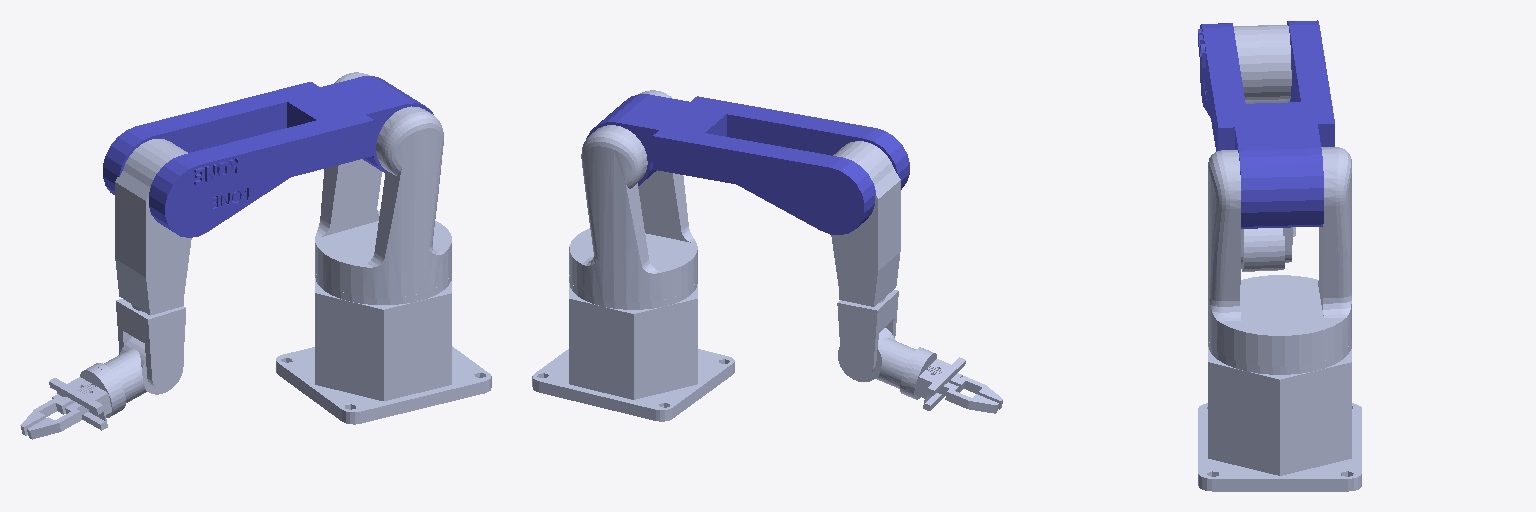
URDF robot description (robot_bras_ABB):
<?xml version="1.0" encoding="utf-8"?>
<!-- This URDF was automatically created by SolidWorks to URDF Exporter! Originally created by [author] ([email redacted]) 
     Commit Version: 1.6.0-4-g7f85cfe  Build Version: 1.6.7995.38578
     For more information, please see http://wiki.ros.org/sw_urdf_exporter -->
<robot
  name="robot_bras_ABB">
  <link
    name="base_link">
    <inertial>
      <origin
        xyz="1.1885E-05 -8.0658E-06 0.043886"
        rpy="0 0 0" />
      <mass
        value="0.9371" />
      <inertia
        ixx="0.0014923"
        ixy="4.3702E-07"
        ixz="-5.8663E-08"
        iyy="0.0015259"
        iyz="3.154E-08"
        izz="0.0015689" />
    </inertial>
    <visual>
      <origin
        xyz="0 0 0"
        rpy="0 0 0" />
      <geometry>
        <mesh
          filename="package://robot_bras_ABB/meshes/base_link.STL" />
      </geometry>
      <material
        name="">
        <color
          rgba="0.79216 0.81961 0.93333 1" />
      </material>
    </visual>
    <collision>
      <origin
        xyz="0 0 0"
        rpy="0 0 0" />
      <geometry>
        <mesh
          filename="package://robot_bras_ABB/meshes/base_link.STL" />
      </geometry>
    </collision>
  </link>
  <link
    name="link_1">
    <inertial>
      <origin
        xyz="0.0006855 2.4873E-07 -0.049543"
        rpy="0 0 0" />
      <mass
        value="0.43366" />
      <inertia
        ixx="0.0013649"
        ixy="-4.8459E-09"
        ixz="-5.0338E-06"
        iyy="0.0010402"
        iyz="3.0695E-09"
        izz="0.00069101" />
    </inertial>
    <visual>
      <origin
        xyz="0 0 0"
        rpy="0 0 0" />
      <geometry>
        <mesh
          filename="package://robot_bras_ABB/meshes/link_1.STL" />
      </geometry>
      <material
        name="">
        <color
          rgba="0.79216 0.81961 0.93333 1" />
      </material>
    </visual>
    <collision>
      <origin
        xyz="0 0 0"
        rpy="0 0 0" />
      <geometry>
        <mesh
          filename="package://robot_bras_ABB/meshes/link_1.STL" />
      </geometry>
    </collision>
  </link>
  <joint
    name="joint0"
    type="revolute">
    <origin
      xyz="1.344E-05 0 0.09335"
      rpy="3.1416 0 -3.0703" />
    <parent
      link="base_link" />
    <child
      link="link_1" />
    <axis
      xyz="0 0 1" />
    <limit
      lower="0"
      upper="3.14"
      effort="300"
      velocity="5" />
  </joint>
  <link
    name="link_2">
    <inertial>
      <origin
        xyz="-0.0065011 0.09115 -6.0107E-06"
        rpy="0 0 0" />
      <mass
        value="0.5836" />
      <inertia
        ixx="0.0040315"
        ixy="-1.8069E-05"
        ixz="-6.5492E-07"
        iyy="0.00054365"
        iyz="-1.9169E-06"
        izz="0.0037443" />
    </inertial>
    <visual>
      <origin
        xyz="0 0 0"
        rpy="0 0 0" />
      <geometry>
        <mesh
          filename="package://robot_bras_ABB/meshes/link_2.STL" />
      </geometry>
      <material
        name="">
        <color
          rgba="0.38824 0.4 0.85882 0.6" />
      </material>
    </visual>
    <collision>
      <origin
        xyz="0 0 0"
        rpy="0 0 0" />
      <geometry>
        <mesh
          filename="package://robot_bras_ABB/meshes/link_2.STL" />
      </geometry>
    </collision>
  </link>
  <joint
    name="joint1"
    type="revolute">
    <origin
      xyz="0 0 -0.12025"
      rpy="-1.5708 -1.5438 0" />
    <parent
      link="link_1" />
    <child
      link="link_2" />
    <axis
      xyz="0 0 1" />
    <limit
      lower="-1.57"
      upper="1.57"
      effort="200"
      velocity="5" />
  </joint>
  <link
    name="link_3">
    <inertial>
      <origin
        xyz="0.031505 -0.0076076 -0.0013362"
        rpy="0 0 0" />
      <mass
        value="0.22742" />
      <inertia
        ixx="7.961E-05"
        ixy="3.8063E-05"
        ixz="4.456E-08"
        iyy="0.00030017"
        iyz="-3.9345E-09"
        izz="0.00031316" />
    </inertial>
    <visual>
      <origin
        xyz="0 0 0"
        rpy="0 0 0" />
      <geometry>
        <mesh
          filename="package://robot_bras_ABB/meshes/link_3.STL" />
      </geometry>
      <material
        name="">
        <color
          rgba="0.79216 0.81961 0.93333 1" />
      </material>
    </visual>
    <collision>
      <origin
        xyz="0 0 0"
        rpy="0 0 0" />
      <geometry>
        <mesh
          filename="package://robot_bras_ABB/meshes/link_3.STL" />
      </geometry>
    </collision>
  </link>
  <joint
    name="joint2"
    type="revolute">
    <origin
      xyz="0 0.2 0"
      rpy="3.1416 0 -0.031835" />
    <parent
      link="link_2" />
    <child
      link="link_3" />
    <axis
      xyz="0 0 1" />
    <limit
      lower="-1.57"
      upper="1.57"
      effort="200"
      velocity="5" />
  </joint>
  <link
    name="link_4">
    <inertial>
      <origin
        xyz="0.021493 0.00011529 0.00025275"
        rpy="0 0 0" />
      <mass
        value="0.050665" />
      <inertia
        ixx="1.4625E-05"
        ixy="-2.0111E-08"
        ixz="-9.6228E-09"
        iyy="2.3638E-05"
        iyz="8.8309E-11"
        izz="1.813E-05" />
    </inertial>
    <visual>
      <origin
        xyz="0 0 0"
        rpy="0 0 0" />
      <geometry>
        <mesh
          filename="package://robot_bras_ABB/meshes/link_4.STL" />
      </geometry>
      <material
        name="">
        <color
          rgba="0.79216 0.81961 0.93333 1" />
      </material>
    </visual>
    <collision>
      <origin
        xyz="0 0 0"
        rpy="0 0 0" />
      <geometry>
        <mesh
          filename="package://robot_bras_ABB/meshes/link_4.STL" />
      </geometry>
    </collision>
  </link>
  <joint
    name="joint3"
    type="revolute">
    <origin
      xyz="0.09947 -0.013523 -0.0018283"
      rpy="-0.029214 0 0" />
    <parent
      link="link_3" />
    <child
      link="link_4" />
    <axis
      xyz="1 0 0" />
    <limit
      lower="-1.57"
      upper="1.57"
      effort="200"
      velocity="5" />
  </joint>
  <link
    name="link_5">
    <inertial>
      <origin
        xyz="0.014078 -2.8252E-07 -0.00016271"
        rpy="0 0 0" />
      <mass
        value="0.066258" />
      <inertia
        ixx="1.1462E-05"
        ixy="-1.3613E-10"
        ixz="-1.0344E-07"
        iyy="2.8103E-05"
        iyz="1.2893E-10"
        izz="2.9288E-05" />
    </inertial>
    <visual>
      <origin
        xyz="0 0 0"
        rpy="0 0 0" />
      <geometry>
        <mesh
          filename="package://robot_bras_ABB/meshes/link_5.STL" />
      </geometry>
      <material
        name="">
        <color
          rgba="0.79216 0.81961 0.93333 1" />
      </material>
    </visual>
    <collision>
      <origin
        xyz="0 0 0"
        rpy="0 0 0" />
      <geometry>
        <mesh
          filename="package://robot_bras_ABB/meshes/link_5.STL" />
      </geometry>
    </collision>
  </link>
  <joint
    name="joint4"
    type="revolute">
    <origin
      xyz="0.050588 0 0"
      rpy="0 0 -1.3526" />
    <parent
      link="link_4" />
    <child
      link="link_5" />
    <axis
      xyz="0 0 1" />
    <limit
      lower="-1.57"
      upper="1.57"
      effort="200"
      velocity="5" />
  </joint>
  <link
    name="link_6">
    <inertial>
      <origin
        xyz="2.8623E-17 3.2535E-05 0.027023"
        rpy="0 0 0" />
      <mass
        value="0.023325" />
      <inertia
        ixx="3.1248E-06"
        ixy="1.5022E-21"
        ixz="-1.0505E-22"
        iyy="5.3622E-06"
        iyz="-1.9003E-09"
        izz="5.1614E-06" />
    </inertial>
    <visual>
      <origin
        xyz="0 0 0"
        rpy="0 0 0" />
      <geometry>
        <mesh
          filename="package://robot_bras_ABB/meshes/link_6.STL" />
      </geometry>
      <material
        name="">
        <color
          rgba="0.79216 0.81961 0.93333 1" />
      </material>
    </visual>
    <collision>
      <origin
        xyz="0 0 0"
        rpy="0 0 0" />
      <geometry>
        <mesh
          filename="package://robot_bras_ABB/meshes/link_6.STL" />
      </geometry>
    </collision>
  </link>
  <joint
    name="joint5"
    type="revolute">
    <origin
      xyz="0.030728 0 6.7238E-05"
      rpy="1.5708 1.5592 1.5708" />
    <parent
      link="link_5" />
    <child
      link="link_6" />
    <axis
      xyz="0 0 1" />
    <limit
      lower="0"
      upper="3.14"
      effort="200"
      velocity="5" />
  </joint>
  <link
    name="link_7">
    <inertial>
      <origin
        xyz="-0.12406 -0.0062179 0.004"
        rpy="0 0 0" />
      <mass
        value="0.0035066" />
      <inertia
        ixx="7.4038E-08"
        ixy="-2.1237E-08"
        ixz="4.0201E-22"
        iyy="7.9048E-07"
        iyz="7.4446E-24"
        izz="8.2711E-07" />
    </inertial>
    <visual>
      <origin
        xyz="0 0 0"
        rpy="0 0 0" />
      <geometry>
        <mesh
          filename="package://robot_bras_ABB/meshes/link_7.STL" />
      </geometry>
      <material
        name="">
        <color
          rgba="0.79216 0.81961 0.93333 1" />
      </material>
    </visual>
    <collision>
      <origin
        xyz="0 0 0"
        rpy="0 0 0" />
      <geometry>
        <mesh
          filename="package://robot_bras_ABB/meshes/link_7.STL" />
      </geometry>
    </collision>
  </link>
  <joint
    name="joint6"
    type="prismatic">
    <origin
      xyz="0.0022413 0.0035238 0.1867"
      rpy="-3.1345 -1.5708 -1.5718" />
    <parent
      link="link_6" />
    <child
      link="link_7" />
    <axis
      xyz="0 1 0" />
    <limit
      lower="0"
      upper="0.03"
      effort="100"
      velocity="5" />
  </joint>
  <link
    name="link_8">
    <inertial>
      <origin
        xyz="-0.12406 -0.0062179 0.004"
        rpy="0 0 0" />
      <mass
        value="0.0035066" />
      <inertia
        ixx="7.4038E-08"
        ixy="-2.1237E-08"
        ixz="-1.4724E-22"
        iyy="7.9048E-07"
        iyz="-2.0266E-23"
        izz="8.2711E-07" />
    </inertial>
    <visual>
      <origin
        xyz="0 0 0"
        rpy="0 0 0" />
      <geometry>
        <mesh
          filename="package://robot_bras_ABB/meshes/link_8.STL" />
      </geometry>
      <material
        name="">
        <color
          rgba="0.79216 0.81961 0.93333 1" />
      </material>
    </visual>
    <collision>
      <origin
        xyz="0 0 0"
        rpy="0 0 0" />
      <geometry>
        <mesh
          filename="package://robot_bras_ABB/meshes/link_8.STL" />
      </geometry>
    </collision>
  </link>
  <joint
    name="joint7"
    type="prismatic">
    <origin
      xyz="-0.0022413 -0.0044762 0.1867"
      rpy="0.072788 -1.5708 -1.6272" />
    <parent
      link="link_6" />
    <child
      link="link_8" />
    <axis
      xyz="0 1 0" />
    <limit
      lower="-0.03"
      upper="0"
      effort="100"
      velocity="5" />
  </joint>
</robot>

--- Facts derived from the render (not from the file) ---
3 views of the same robot in one strip: view 1: azimuth 30°, elevation 25°; view 2: azimuth 150°, elevation 25°; view 3: azimuth 270°, elevation 25° (orthographic).
Model robot_bras_ABB with 9 links and 8 joints (6 revolute, 2 prismatic), rooted at base_link, posed every joint at zero.
Links seen in each view (by area): view 1: link_2, base_link, link_1, link_3, link_4, link_6, link_5, link_8, link_7; view 2: link_2, base_link, link_1, link_3, link_4, link_5, link_6, link_7, link_8; view 3: base_link, link_1, link_2, link_3, link_5.
Boxes of the visible links, box(x1,y1,x2,y2) form: link_2: box(103, 76, 433, 237); base_link: box(276, 272, 491, 424); link_1: box(315, 72, 451, 297); link_3: box(115, 139, 191, 315); link_4: box(116, 299, 185, 390); link_6: box(49, 366, 119, 430); link_5: box(93, 337, 183, 411); link_8: box(27, 402, 88, 439); link_7: box(20, 397, 74, 435); link_2: box(586, 94, 909, 234); base_link: box(532, 275, 734, 421); link_1: box(569, 90, 697, 302); link_3: box(831, 141, 900, 306); link_4: box(837, 290, 898, 378); link_5: box(838, 328, 925, 395); link_6: box(906, 350, 965, 410); link_7: box(937, 382, 998, 413); link_8: box(949, 376, 1002, 409); base_link: box(1198, 340, 1361, 491); link_1: box(1208, 147, 1351, 366); link_2: box(1198, 20, 1334, 228); link_3: box(1233, 25, 1291, 103); link_5: box(1241, 228, 1284, 271).
Size in the robot's own frame: 0.3956 by 0.119 by 0.249 metres.
Meshes: 9 distinct files referenced, 9 mesh visuals loaded (9 binary STL).